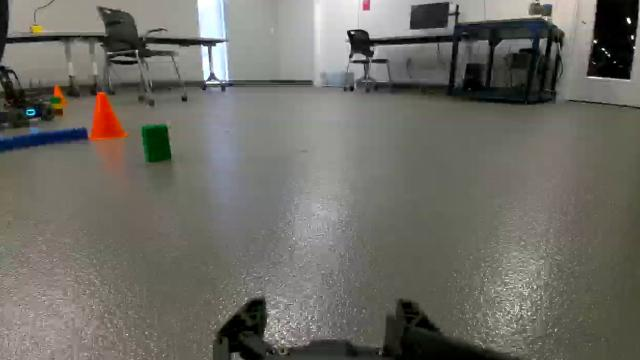lego: (134, 120, 185, 174)
